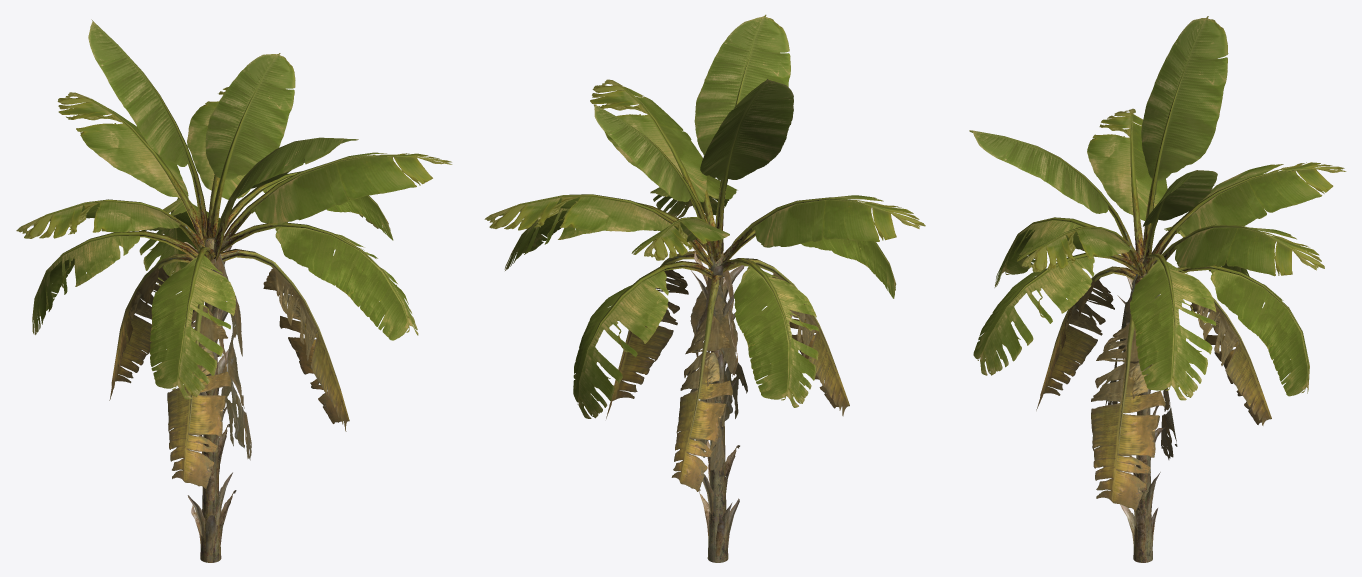
The model's file is BananaTree_LOD2.fbx.
The picture shows the model from 3 angles, left to right: view 1: azimuth 30°, elevation 25°; view 2: azimuth 150°, elevation 25°; view 3: azimuth 270°, elevation 25°; orthographic projection. The views are drawn at different scales.
Parts seen in each view (by area): view 1: banana_plant_1, banana_plant_0; view 2: banana_plant_1, banana_plant_0; view 3: banana_plant_1, banana_plant_0.
Part boxes in pixels (x1,y1,x2,y2): banana_plant_1: (16, 19, 452, 556); banana_plant_0: (37, 48, 408, 562); banana_plant_1: (484, 14, 925, 556); banana_plant_0: (522, 45, 886, 562); banana_plant_1: (969, 16, 1346, 552); banana_plant_0: (991, 53, 1310, 562).
Bounding box in the file's own units: 264 × 337 × 234.
1 material, 1 textured.
